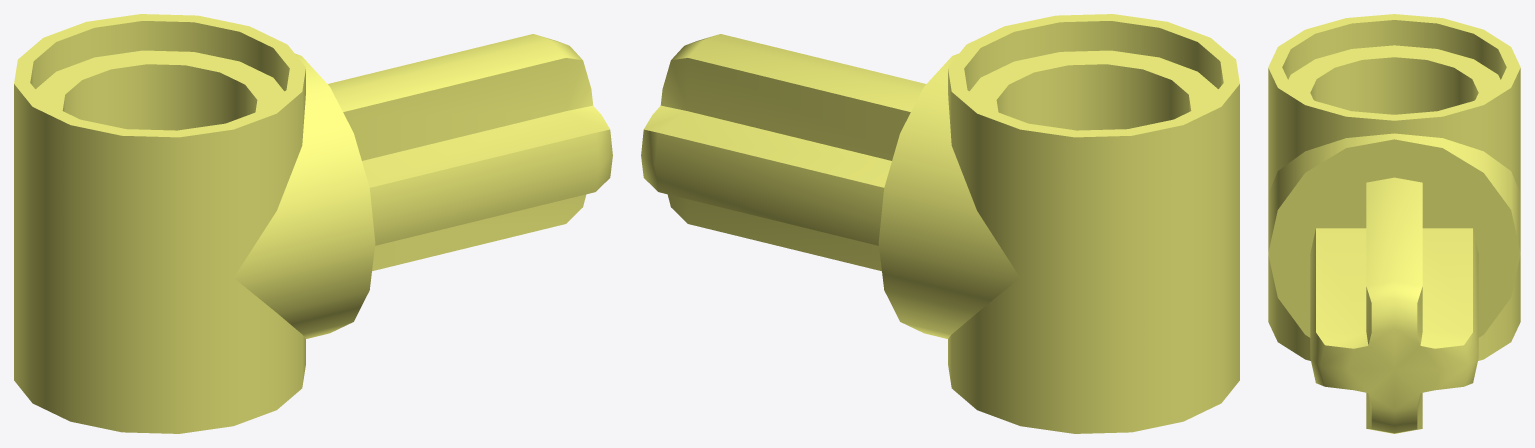
3 views of the same model, side by side, from view 1: azimuth 30°, elevation 25°; view 2: azimuth 150°, elevation 25°; view 3: azimuth 270°, elevation 25° (orthographic). The views are drawn at different scales.
Parts seen in each view (by area): view 1: 22961.dat; view 2: 22961.dat; view 3: 22961.dat.
Part boxes in pixels (bbox=[...]): 22961.dat: bbox=[14, 14, 612, 433]; 22961.dat: bbox=[641, 14, 1239, 433]; 22961.dat: bbox=[1268, 14, 1520, 433].
Size of the model in its own units: 0.0154 by 0.008 by 0.0072.
